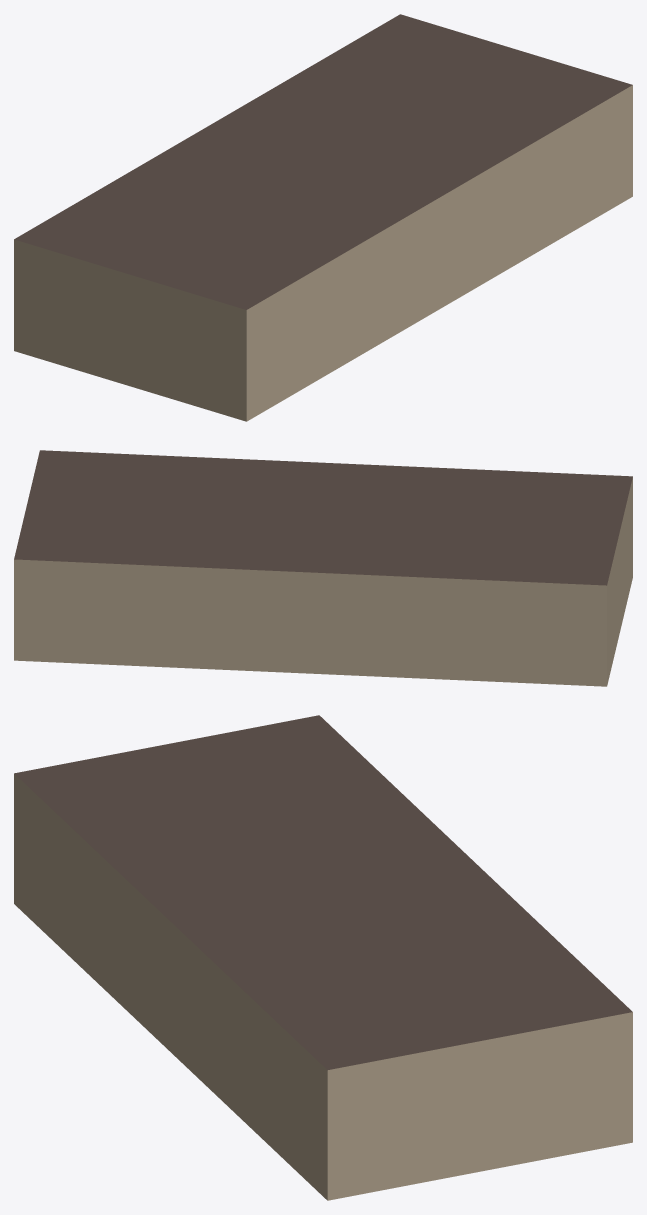
3 renders of one model, top to bottom at view 1: azimuth 30°, elevation 25°; view 2: azimuth 150°, elevation 25°; view 3: azimuth 270°, elevation 25°, orthographic. The views are drawn at different scales.
Visible parts, largest first — view 1: HP-w369342550; view 2: HP-w369342550; view 3: HP-w369342550.
Part boxes in pixels (x1=…): HP-w369342550: x1=14, y1=14, x2=632, y2=421; HP-w369342550: x1=14, y1=450, x2=632, y2=686; HP-w369342550: x1=14, y1=715, x2=632, y2=1200.
Size of the model in its own units: 52.49 by 9 by 38.67.
